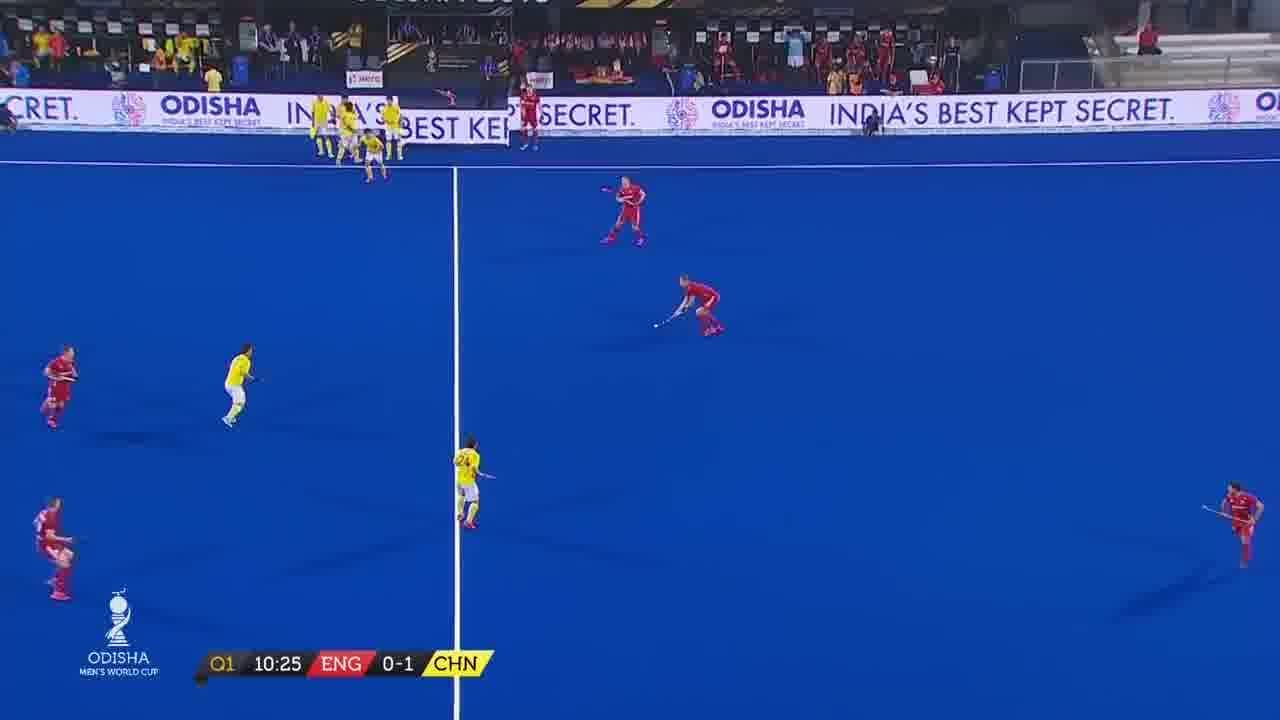ball: (650, 318, 664, 334)
